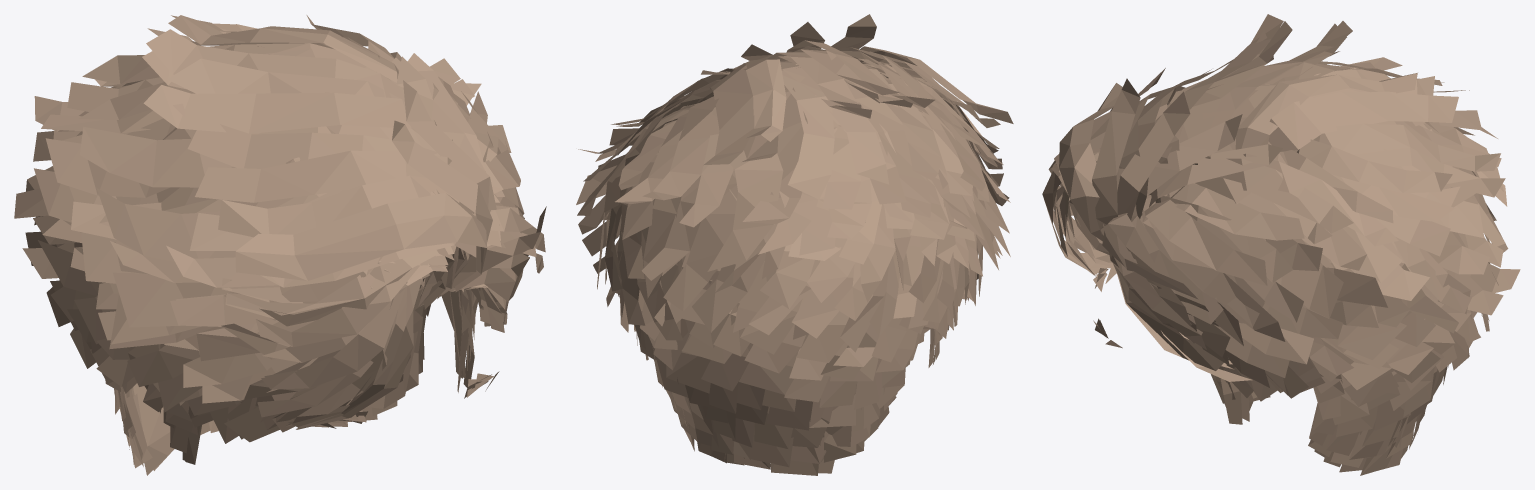
File: male_hair_07_lod1.glb
3 views of the same model, side by side, from view 1: azimuth 30°, elevation 25°; view 2: azimuth 150°, elevation 25°; view 3: azimuth 270°, elevation 25° (orthographic). The views are drawn at different scales.
Visible parts, largest first — view 1: hair_07; view 2: hair_07; view 3: hair_07.
Part boxes in pixels (<box>): hair_07: <box>14,15,546,475</box>; hair_07: <box>576,14,1013,475</box>; hair_07: <box>1042,14,1520,475</box>.
Bounding box in the file's own units: 0.2155 × 0.2051 × 0.2348.
